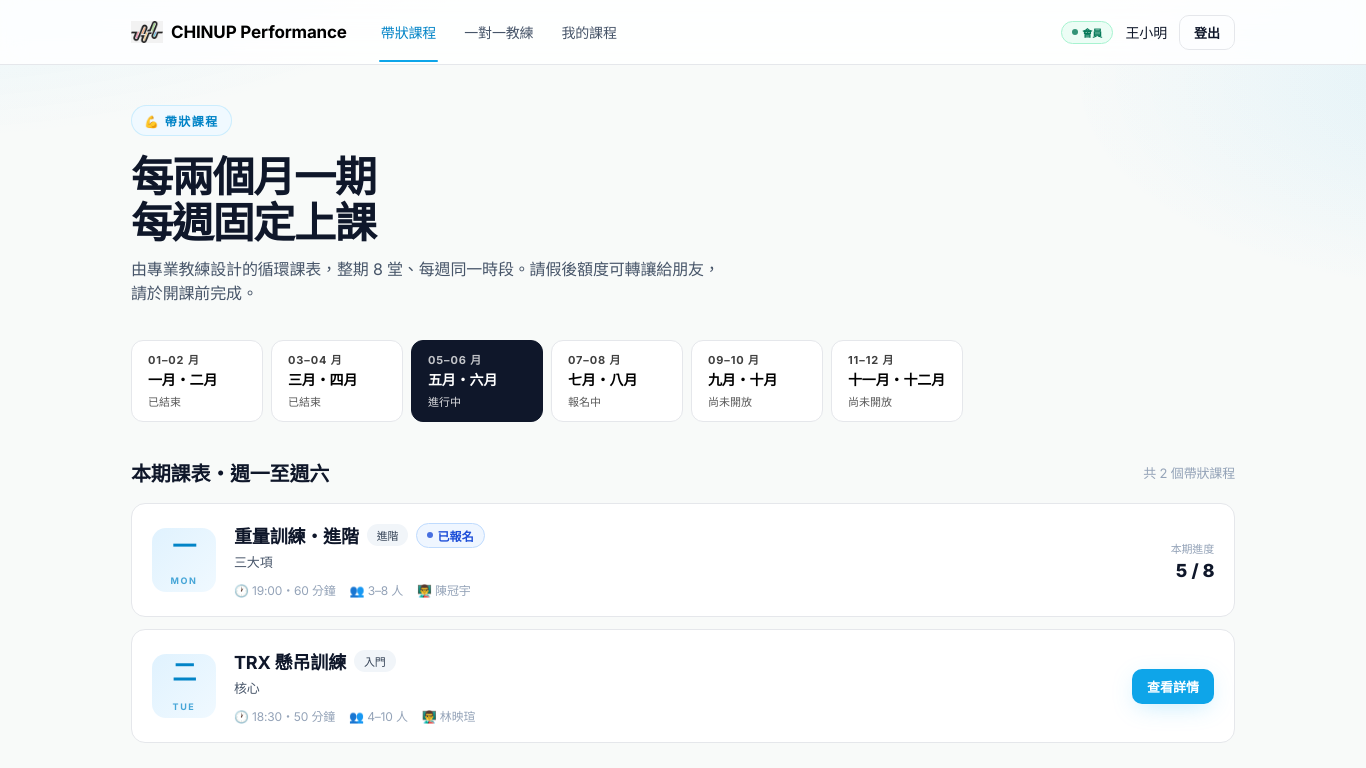
it: CoursesPage › opens drawer for registered course and shows progress + cancel
Click the heading "重量訓練・進階". click: (296, 535)
box: left=234, top=522, right=359, bottom=548
(page scrolled)
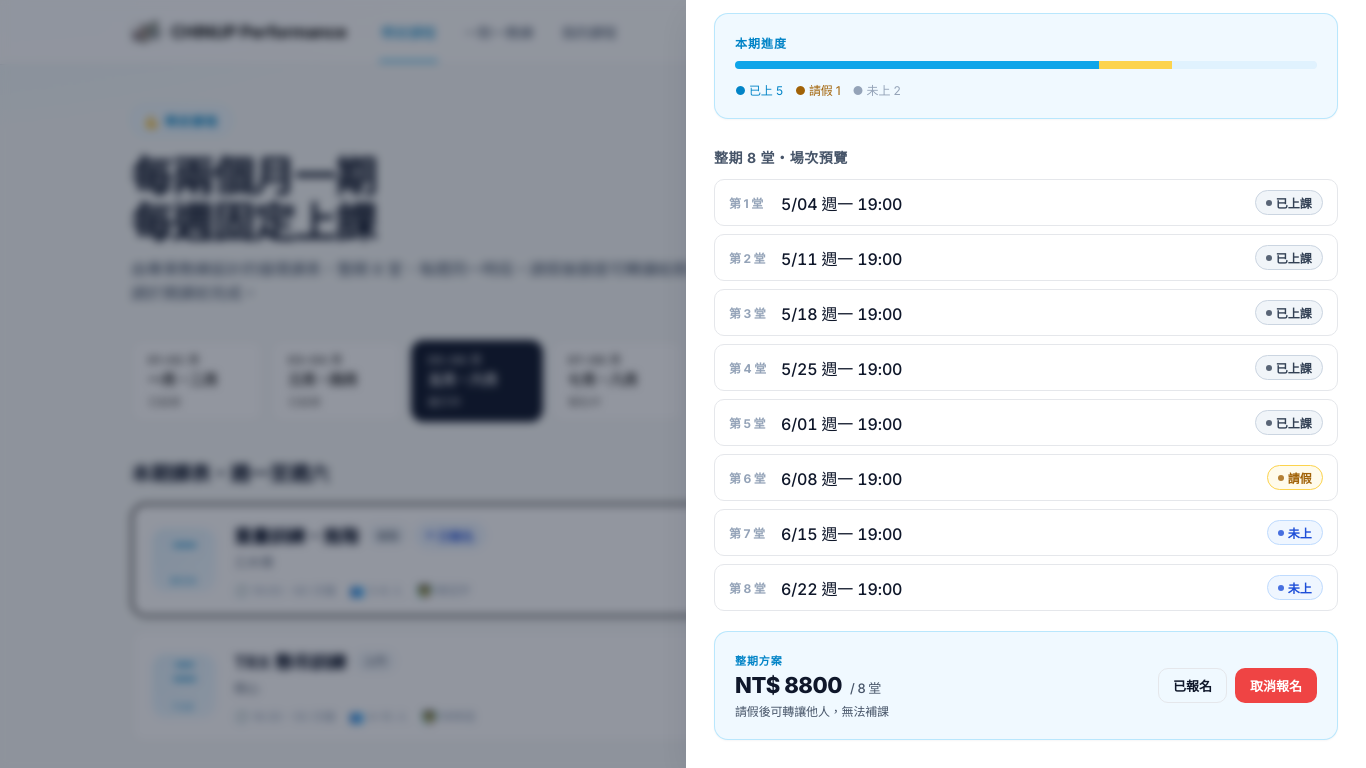
Check: the button "取消報名" is shown, box left=1235, top=668, right=1317, bottom=703
